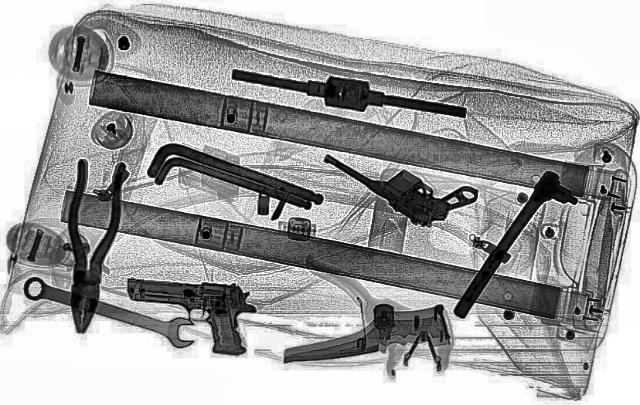Gun: (314, 126, 492, 230), (110, 275, 260, 355)
Pliers: (53, 158, 127, 334)
Wrench: (8, 274, 206, 350)
